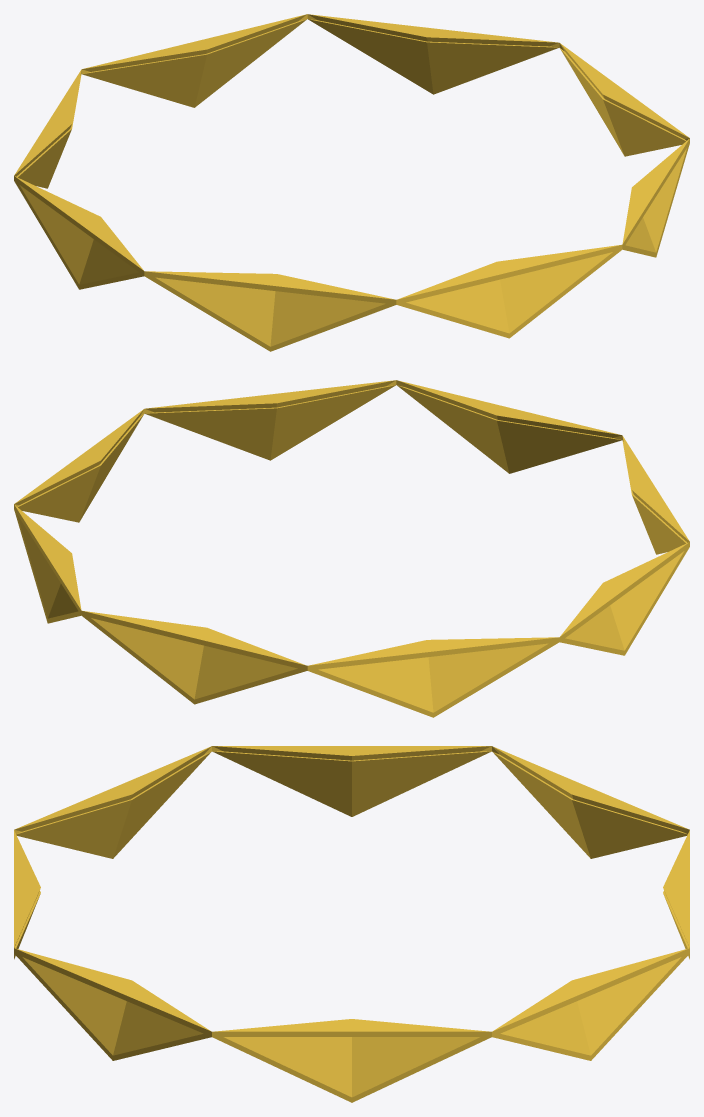
3 views of the same model, one above another, from view 1: azimuth 30°, elevation 25°; view 2: azimuth 150°, elevation 25°; view 3: azimuth 270°, elevation 25° (orthographic). The views are drawn at different scales.
Visible parts, largest first — view 1: 吊篮金色折角包边.001; view 2: 吊篮金色折角包边.001; view 3: 吊篮金色折角包边.001.
Boxes of the visible parts, left/top/right/bottom form: 吊篮金色折角包边.001: left=14, top=14, right=689, bottom=351; 吊篮金色折角包边.001: left=14, top=380, right=689, bottom=717; 吊篮金色折角包边.001: left=14, top=746, right=689, bottom=1102.
Bounding box in the file's own units: 0.68 × 0.0806 × 0.68.
